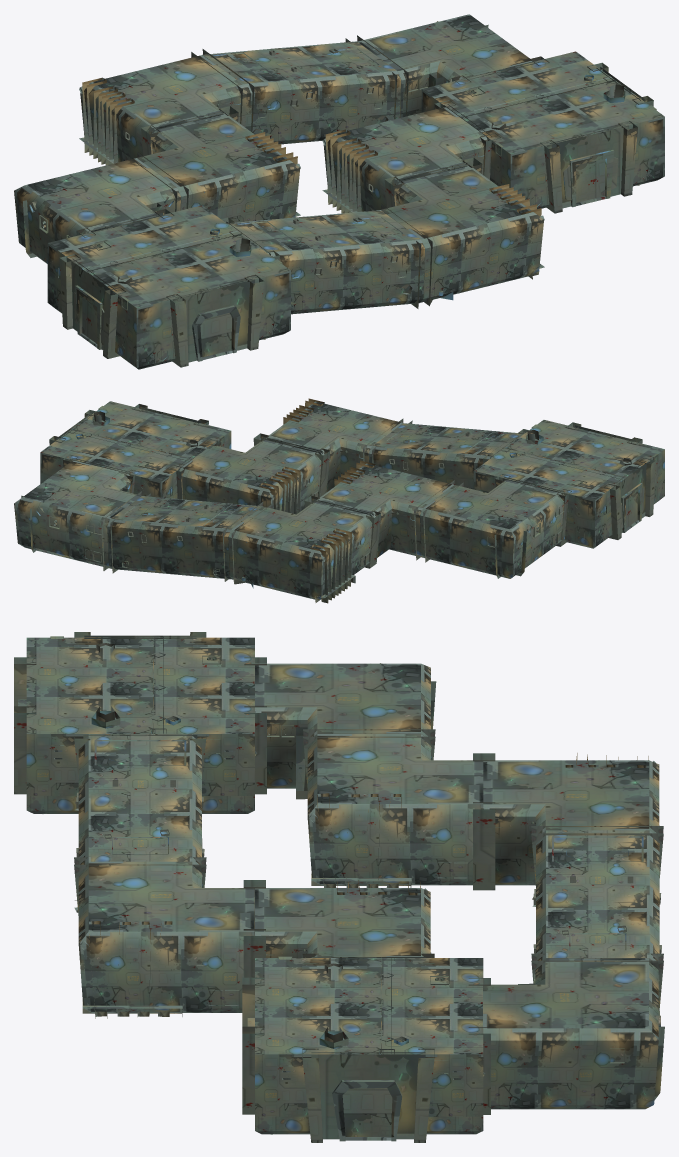
File: Combined_Mesh_root_scene__0_a34a996a__zombies2_diffuse_02_6de118bf_c1f257.obj
3 views of the same model, one above another, from view 1: azimuth 30°, elevation 25°; view 2: azimuth 150°, elevation 25°; view 3: azimuth 270°, elevation 25° (orthographic). The views are drawn at different scales.
Size of the model in its own units: 81.89 by 12.64 by 57.04.
Materials: 170 (170 with a texture image).
